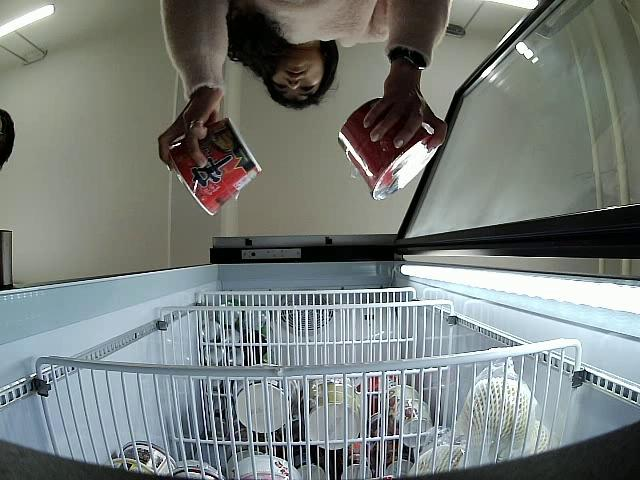00_hand: (363, 78, 449, 156), (159, 87, 224, 168)
01_shinRamen_L: (338, 96, 440, 199), (165, 117, 263, 216)
